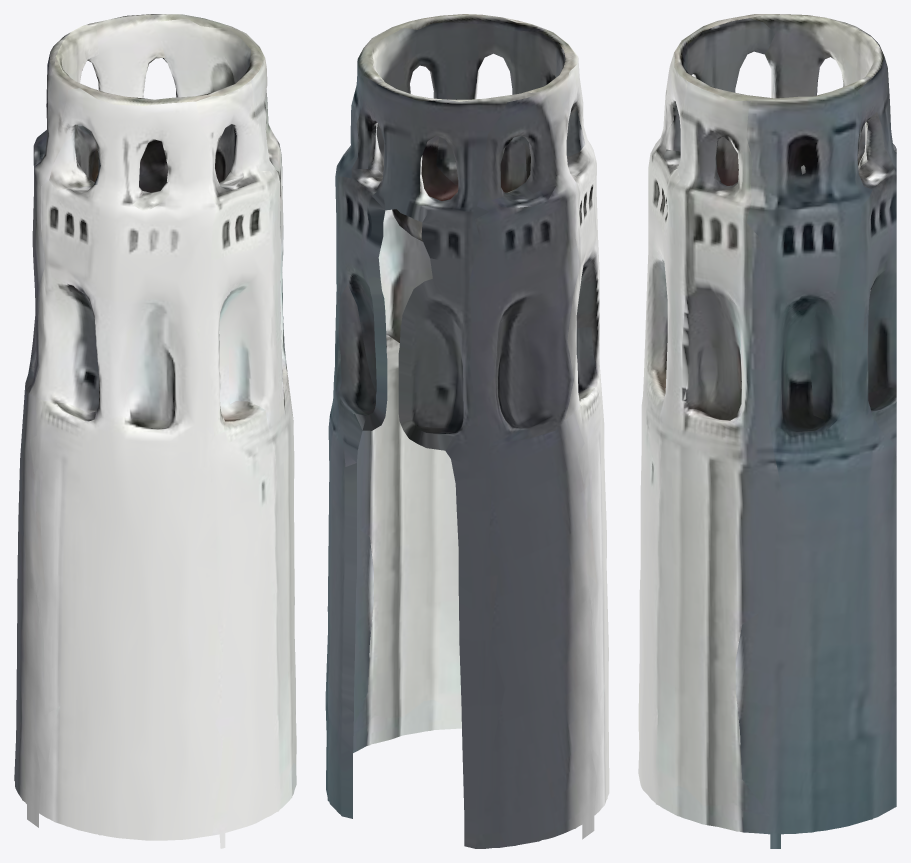
The model's file is z20-167755-405195-h1-yup-uvflip-v3-world.glb.
The picture shows the model from 3 angles, left to right: view 1: azimuth 30°, elevation 25°; view 2: azimuth 150°, elevation 25°; view 3: azimuth 270°, elevation 25°; orthographic projection.
Bounding box in the file's own units: 10.36 × 30.04 × 9.56.
Materials: 1 (1 with a texture image).
